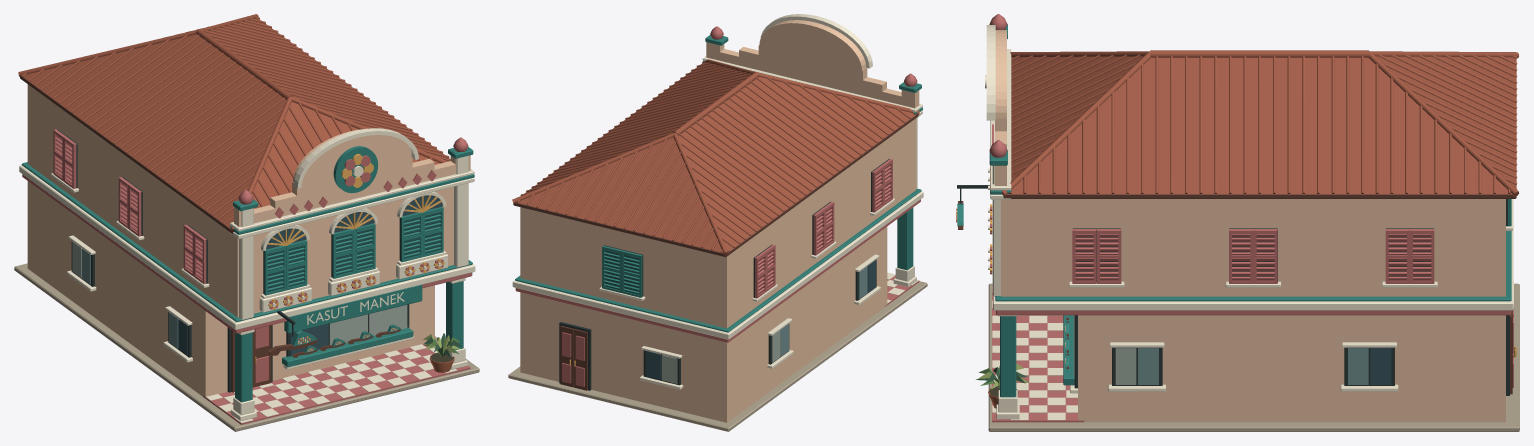
3 views of the same model, side by side, from view 1: azimuth 30°, elevation 25°; view 2: azimuth 150°, elevation 25°; view 3: azimuth 270°, elevation 25° (orthographic). The views are drawn at different scales.
Parts seen in each view (by area): view 1: Shop and residence, Pantile roof, Manek porcelain frontage, Louvred shutters, Five foot way mosaic, Casements and sills, Arcade piers, Entrance joinery, Arcade pot, Slipper samples; view 2: Shop and residence, Pantile roof, Manek porcelain frontage, Louvred shutters, Casements and sills, Entrance joinery, Arcade piers, Five foot way mosaic; view 3: Shop and residence, Pantile roof, Louvred shutters, Manek porcelain frontage, Five foot way mosaic, Casements and sills, Arcade piers, Entrance joinery, Arcade pot.
Boxes of the visible parts, left/top/right/bottom form: Shop and residence: left=14, top=84, right=479, bottom=431; Pantile roof: left=18, top=14, right=450, bottom=233; Manek porcelain frontage: left=230, top=128, right=474, bottom=367; Louvred shutters: left=51, top=129, right=446, bottom=298; Five foot way mosaic: left=203, top=343, right=470, bottom=424; Casements and sills: left=67, top=235, right=413, bottom=369; Arcade piers: left=231, top=278, right=467, bottom=421; Entrance joinery: left=227, top=325, right=272, bottom=392; Arcade pot: left=423, top=333, right=462, bottom=372; Slipper samples: left=292, top=324, right=401, bottom=357; Shop and residence: left=508, top=119, right=927, bottom=431; Pantile roof: left=512, top=59, right=919, bottom=257; Manek porcelain frontage: left=702, top=14, right=922, bottom=188; Louvred shutters: left=599, top=158, right=894, bottom=301; Casements and sills: left=639, top=254, right=880, bottom=389; Entrance joinery: left=559, top=322, right=591, bottom=390; Arcade piers: left=893, top=207, right=916, bottom=286; Five foot way mosaic: left=885, top=272, right=919, bottom=306; Shop and residence: left=988, top=199, right=1519, bottom=431; Pantile roof: left=1001, top=50, right=1518, bottom=198; Louvred shutters: left=1069, top=199, right=1512, bottom=287; Manek porcelain frontage: left=956, top=14, right=1074, bottom=385; Five foot way mosaic: left=992, top=286, right=1084, bottom=422; Casements and sills: left=1070, top=281, right=1513, bottom=393; Arcade piers: left=996, top=315, right=1019, bottom=419; Entrance joinery: left=1506, top=308, right=1516, bottom=395; Arcade pot: left=976, top=363, right=1029, bottom=408.
Bounding box in the file's own units: 8.56 × 8.99 × 14.18.
